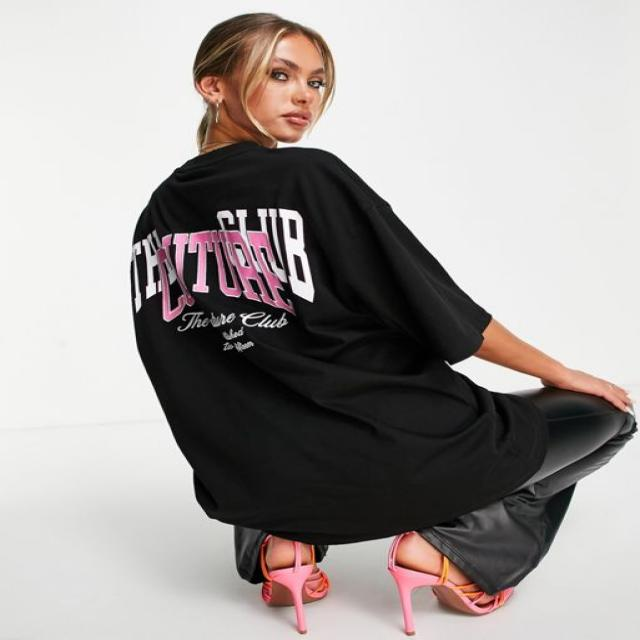tshirt: (126, 142, 544, 540)
